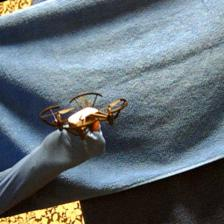drone: (43, 90, 127, 140)
